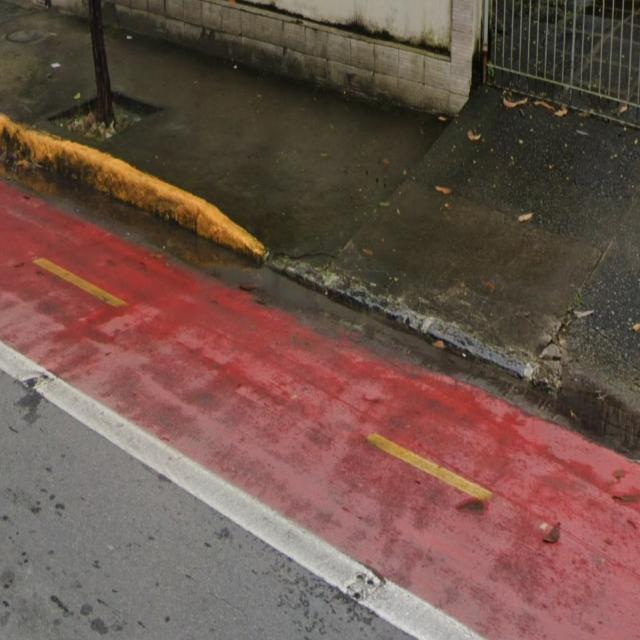Buraco: (454, 479, 500, 543)
